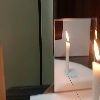fire: (94, 39, 100, 63)
